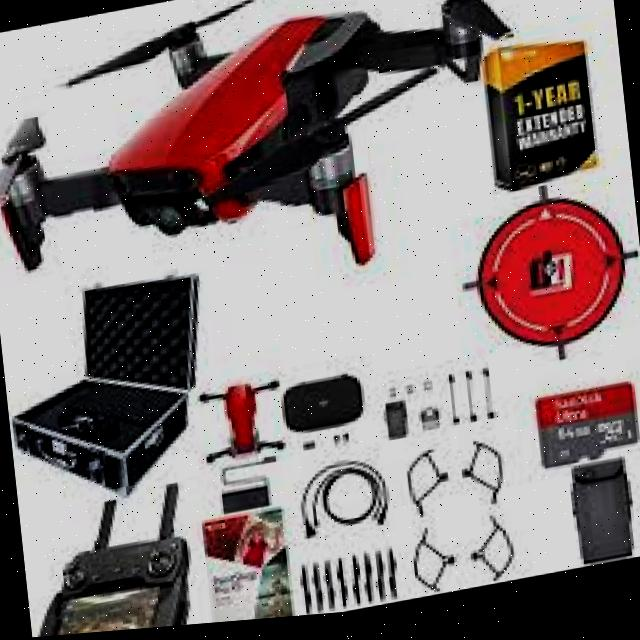drone: (0, 0, 532, 337)
